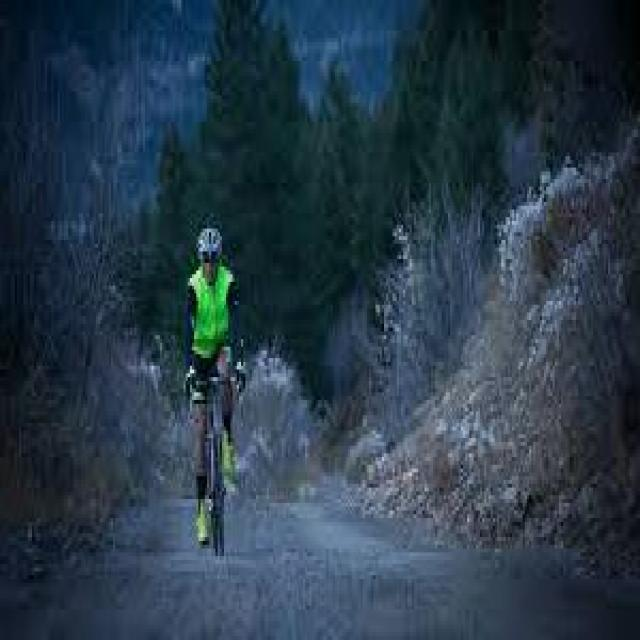Reflective-Jacket: (180, 259, 246, 392)
Safety-Helmet: (192, 217, 228, 271)
